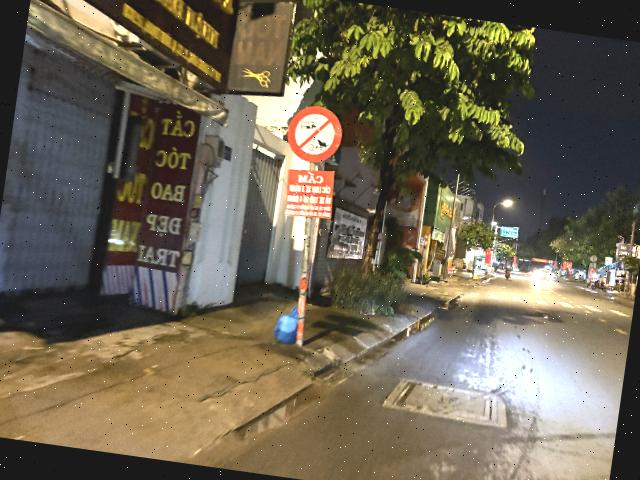cam-xe-3-banh-xe-tho-so-4-banh: (284, 102, 346, 166)
